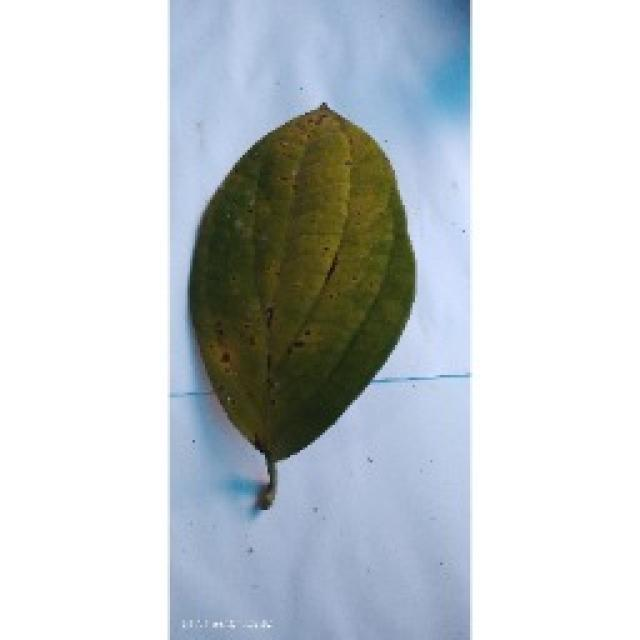slow-decline: (185, 100, 417, 502)
